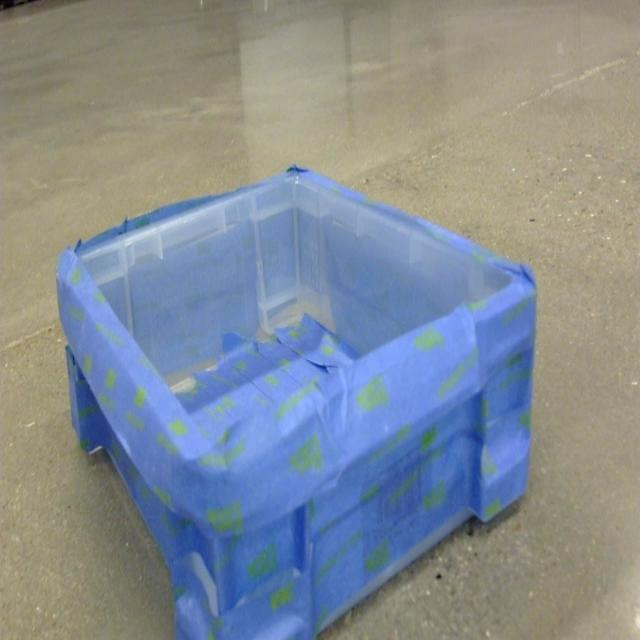bucket: (55, 166, 538, 640)
